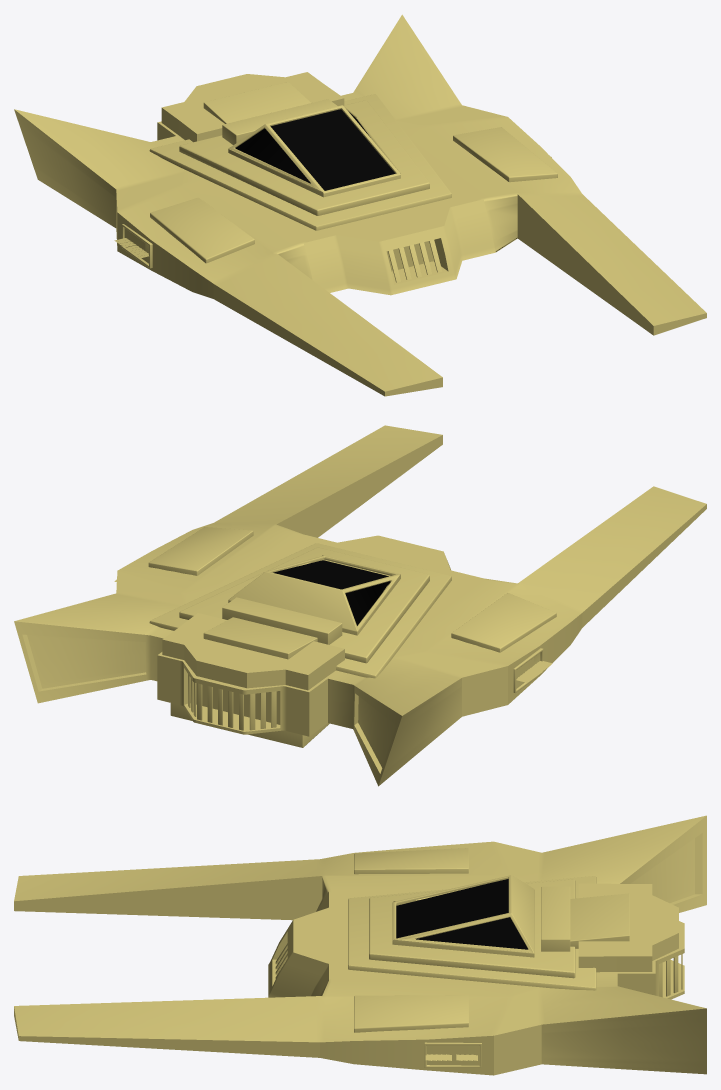
Rendered from spacecraftYellowCenter.fbx.
The picture shows the model from 3 angles, top to bottom: view 1: azimuth 30°, elevation 25°; view 2: azimuth 150°, elevation 25°; view 3: azimuth 270°, elevation 25°; orthographic projection.
Visible parts, largest first — view 1: pasted__pCube1, pasted__pasted__pCube2, pasted__pCube2, Plane, pasted__pCube7, pCube7, pCube2, pasted__pCube6, pCube3, Plane_2; view 2: pasted__pCube1, pasted__pasted__pCube2, pCube2, pasted__pCube2, pasted__pCube7, pCube7, pasted__pCube6, pCube3, Plane, pCube6, Plane_2; view 3: pasted__pCube1, pasted__pasted__pCube2, pasted__pCube2, pCube7, Plane, pCube2, pasted__pCube6, pasted__pCube7, pCube3, Plane_1, pCube4.
Boxes of the visible parts, left/top/right/bottom form: pasted__pCube1: left=14, top=14, right=706, bottom=396; pasted__pasted__pCube2: left=179, top=100, right=429, bottom=215; pasted__pCube2: left=149, top=94, right=451, bottom=230; Plane: left=270, top=109, right=395, bottom=190; pasted__pCube7: left=150, top=197, right=254, bottom=263; pCube7: left=453, top=127, right=557, bottom=182; pCube2: left=228, top=105, right=400, bottom=197; pasted__pCube6: left=203, top=82, right=310, bottom=123; pCube3: left=222, top=99, right=337, bottom=144; Plane_2: left=235, top=128, right=310, bottom=183; pasted__pCube1: left=14, top=425, right=706, bottom=786; pasted__pasted__pCube2: left=179, top=547, right=429, bottom=663; pCube2: left=228, top=555, right=400, bottom=635; pasted__pCube2: left=149, top=543, right=451, bottom=678; pasted__pCube7: left=451, top=593, right=556, bottom=652; pCube7: left=148, top=527, right=253, bottom=575; pasted__pCube6: left=203, top=617, right=317, bottom=659; pCube3: left=222, top=597, right=342, bottom=644; Plane: left=273, top=560, right=388, bottom=589; pCube6: left=170, top=703, right=329, bottom=747; Plane_2: left=345, top=581, right=390, bottom=625; pasted__pCube1: left=14, top=815, right=706, bottom=1075; pasted__pasted__pCube2: left=369, top=879, right=575, bottom=978; pasted__pCube2: left=348, top=876, right=596, bottom=990; pCube7: left=354, top=995, right=468, bottom=1032; Plane: left=396, top=879, right=508, bottom=938; pCube2: left=392, top=875, right=534, bottom=957; pasted__pCube6: left=570, top=893, right=629, bottom=948; pasted__pCube7: left=354, top=848, right=468, bottom=874; pCube3: left=541, top=886, right=570, bottom=951; Plane_1: left=416, top=917, right=527, bottom=949; pCube4: left=424, top=1042, right=481, bottom=1067.
Size of the model in its own units: 8.28 by 1.95 by 11.82.
